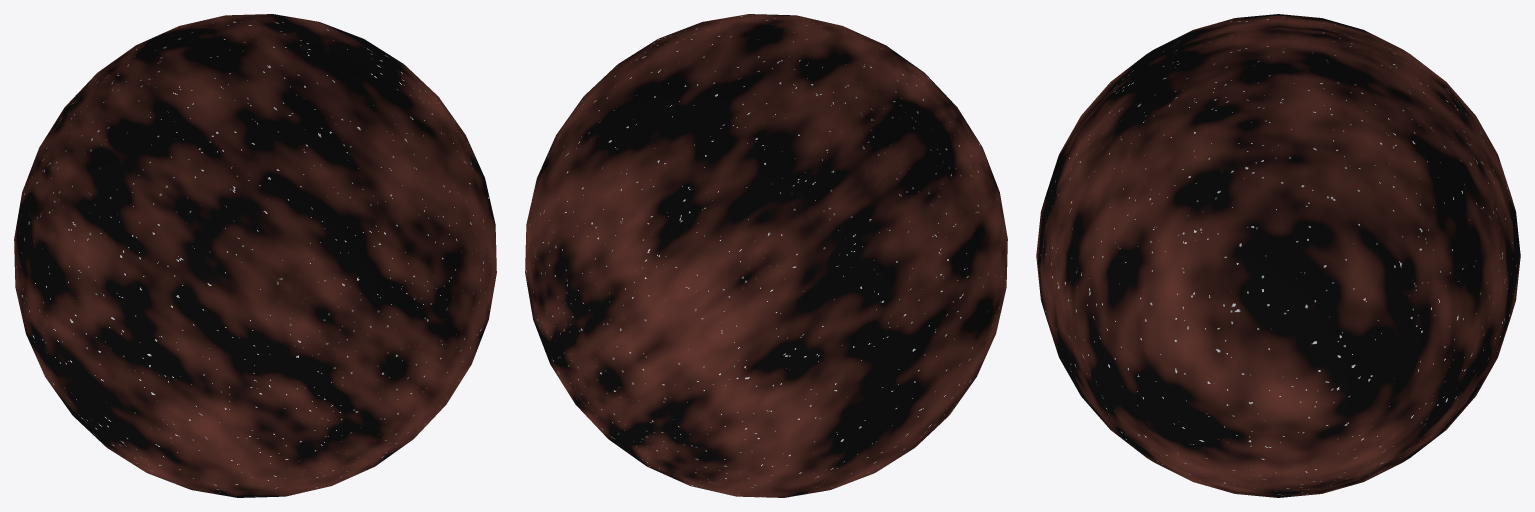
File: skydome.glb
The picture shows the model from 3 angles, left to right: view 1: azimuth 30°, elevation 25°; view 2: azimuth 150°, elevation 25°; view 3: azimuth 270°, elevation 25°; orthographic projection.
Parts seen in each view (by area): view 1: Sphere; view 2: Sphere; view 3: Sphere.
Boxes of the visible parts, x1,y1,x2,y2 form: Sphere: (14, 14, 496, 497); Sphere: (525, 14, 1007, 497); Sphere: (1036, 14, 1520, 497).
Bounding box in the file's own units: 20 × 20 × 20.
1 material, 1 textured.
